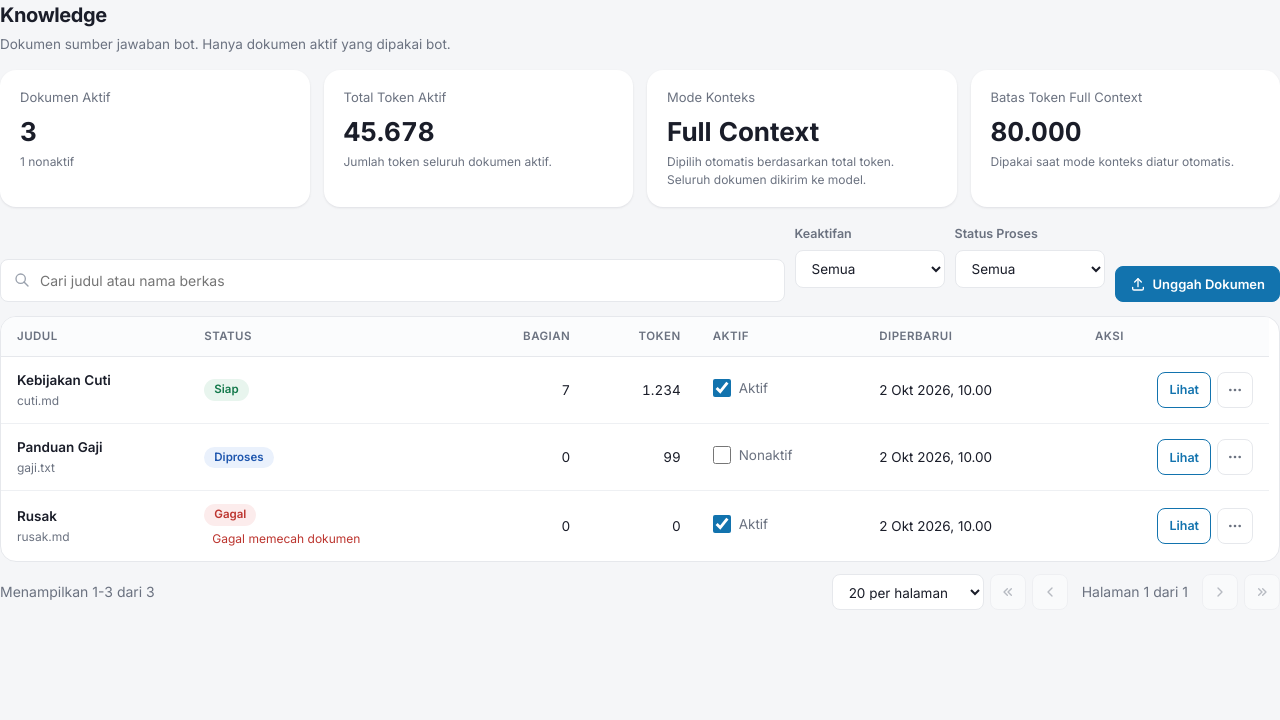
it: Knowledge: rincian dokumen › Lihat membuka panel dan menulis dok ke URL, tab Isi menampilkan teks asli apa adanya
Check: the text "Kebijakan Cuti" is shown, box [17,372,111,388]
What coordinates should you click on to do the following:
click the button with aria-label "Lihat cuti.md"
I would click on:
 (1184, 390)
Its box is [1157,372,1211,408].
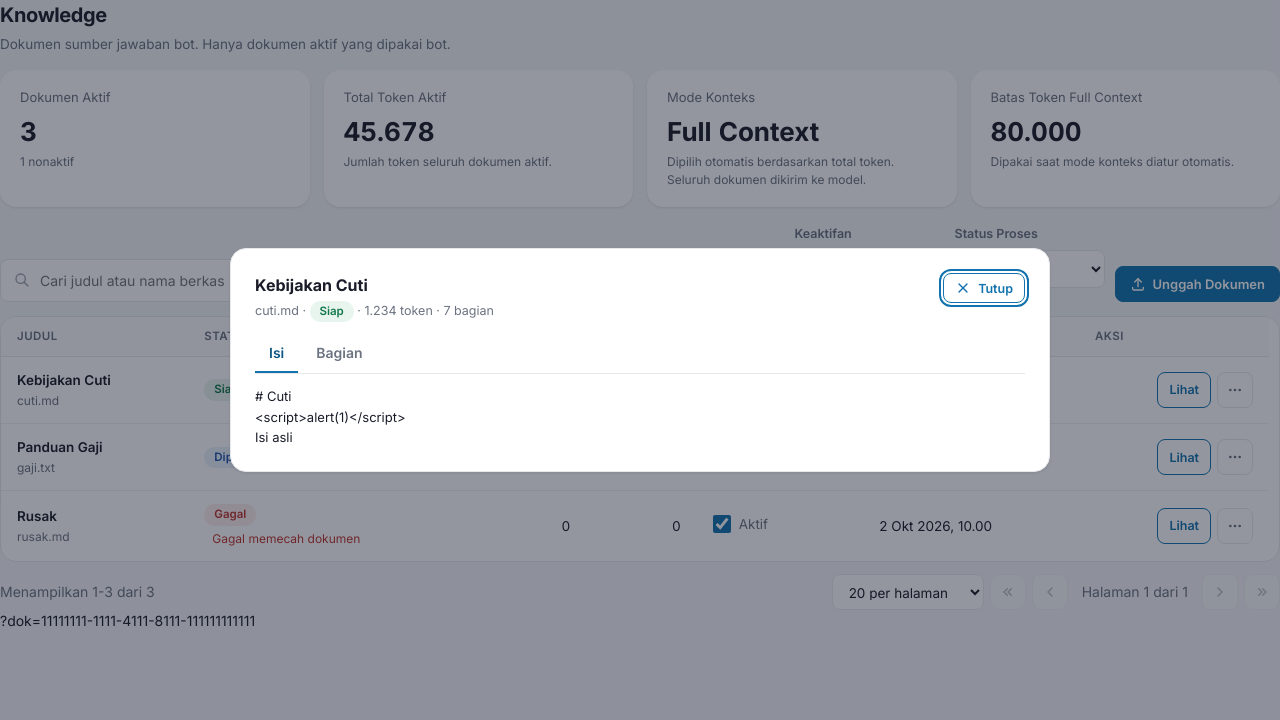
Check: the tab "Isi" is shown, box [255,334,298,373]
Check: the text "# Cuti <script>alert(1)</script> Isi asli" is shown, box [255,388,406,445]
